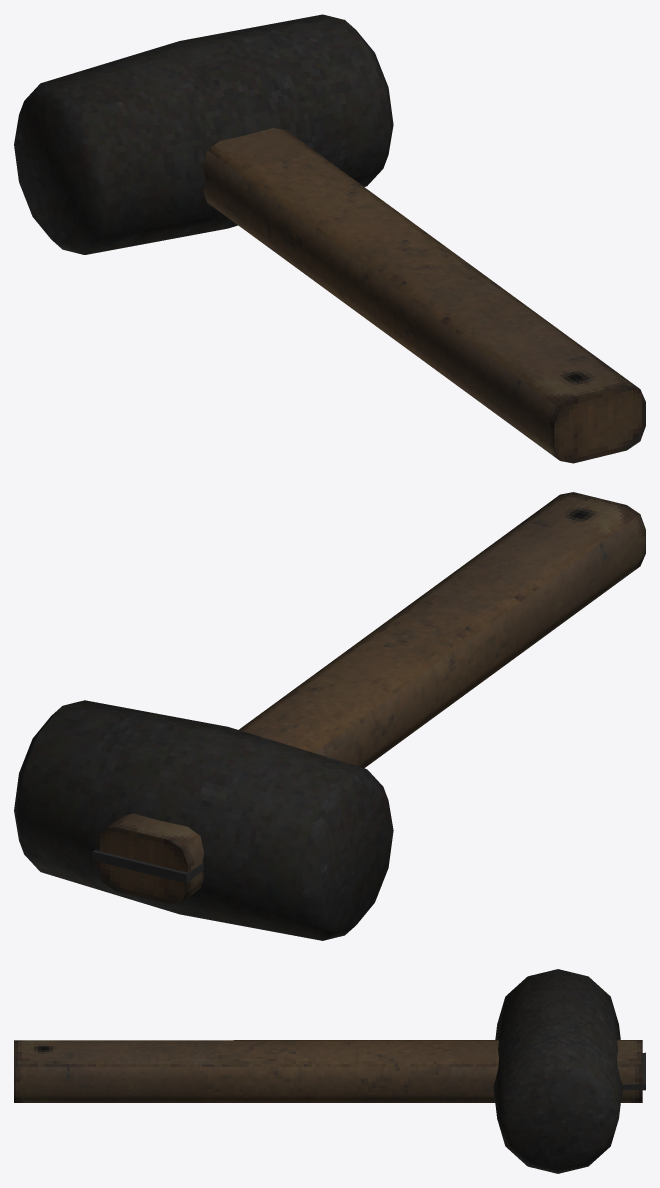
Rendered from rubber_hammer_mx_1.glb.
3 views of the same model, one above another, from view 1: azimuth 30°, elevation 25°; view 2: azimuth 150°, elevation 25°; view 3: azimuth 270°, elevation 25° (orthographic). The views are drawn at different scales.
Visible parts, largest first — view 1: rubber_hammer_mx_1; view 2: rubber_hammer_mx_1; view 3: rubber_hammer_mx_1.
Part boxes in pixels (x1,y1,x2,y2): rubber_hammer_mx_1: (14,14,645,463); rubber_hammer_mx_1: (14,492,645,940); rubber_hammer_mx_1: (14,969,645,1173).
Size of the model in its own units: 0.2 by 0.11 by 0.5227.
Materials: 2 (2 with a texture image).
